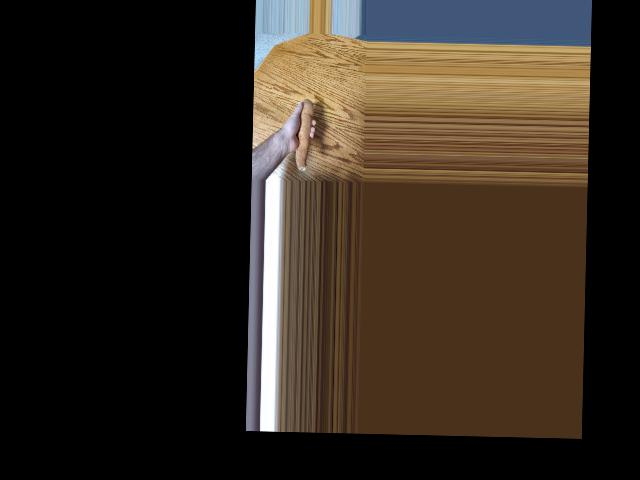sweet_potato: (289, 98, 315, 173)
